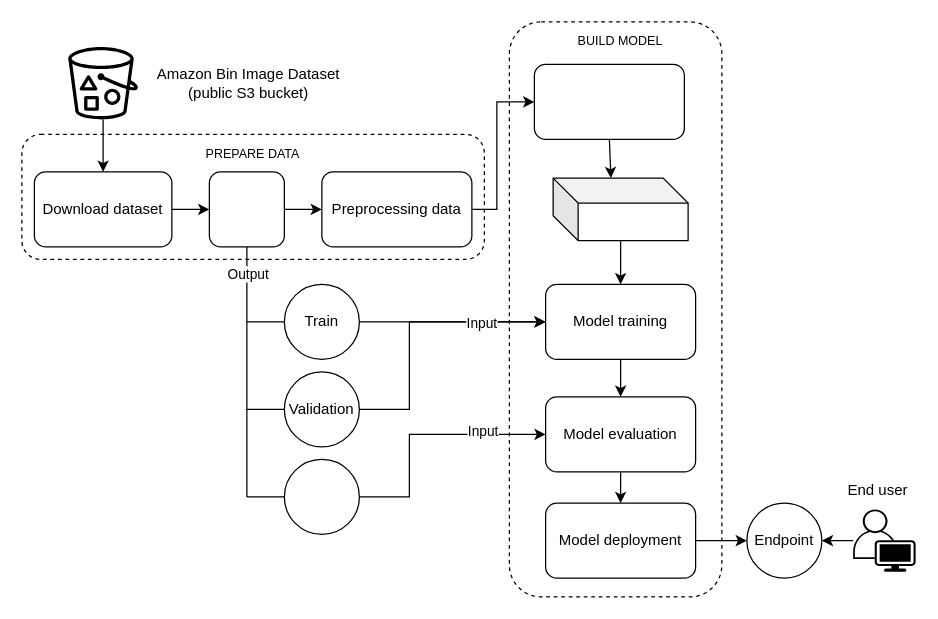
Image size: 938x619. Some labels were removed from this diagram. The shapes that lost their labels are listed below. From the top down, each one's centre as x and y in pixels, then its label:
(608,101): Hyper-parameter tuning
(246,209): Split data
(620,209): Best parameter
(321,496): Test
